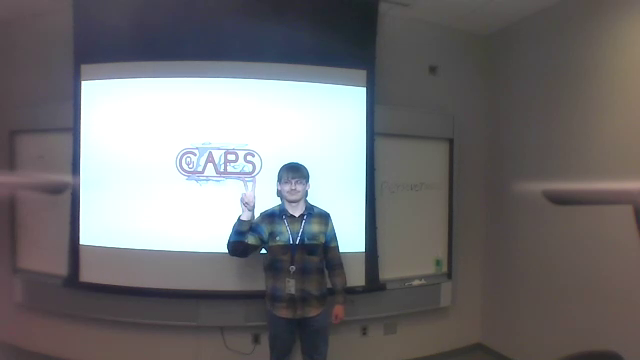peace: (234, 170, 263, 214)
